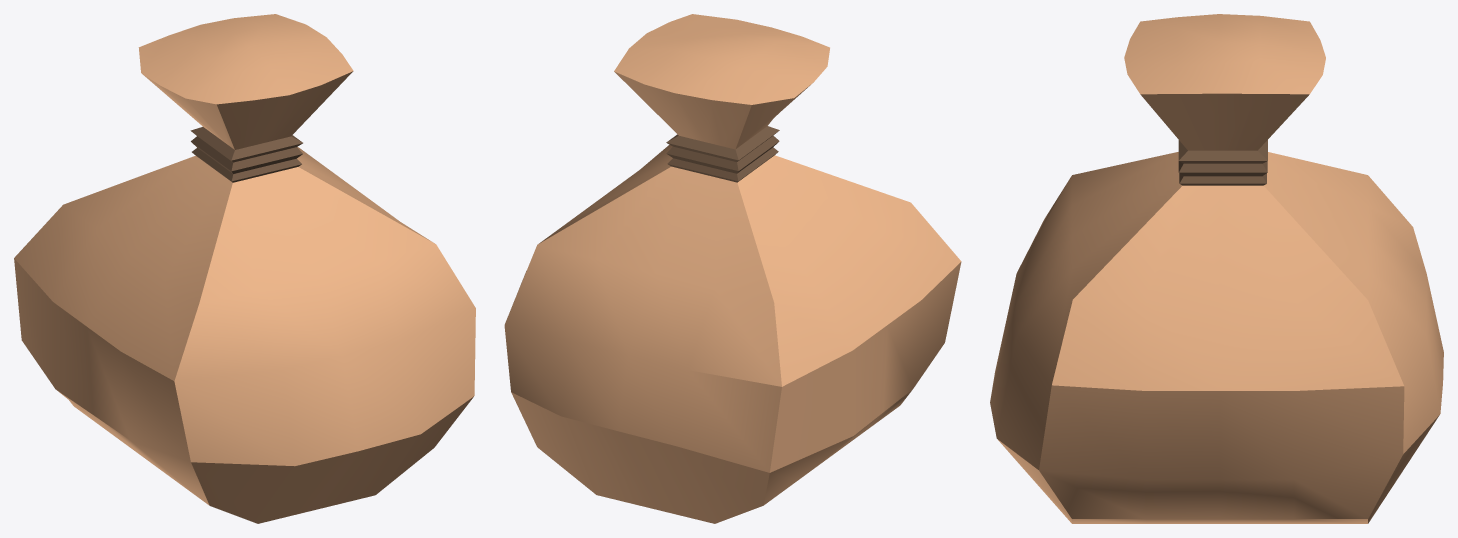
File: Sacco 1.fbx
3 views of the same model, side by side, from view 1: azimuth 30°, elevation 25°; view 2: azimuth 150°, elevation 25°; view 3: azimuth 270°, elevation 25° (orthographic). The views are drawn at different scales.
Visible parts, largest first — view 1: Cube.015; view 2: Cube.015; view 3: Cube.015.
Part boxes in pixels (x1,y1,x2,y2): Cube.015: (14,14,475,523); Cube.015: (504,14,961,523); Cube.015: (990,14,1443,523).
Bounding box in the file's own units: 86.31 × 105 × 96.09.
